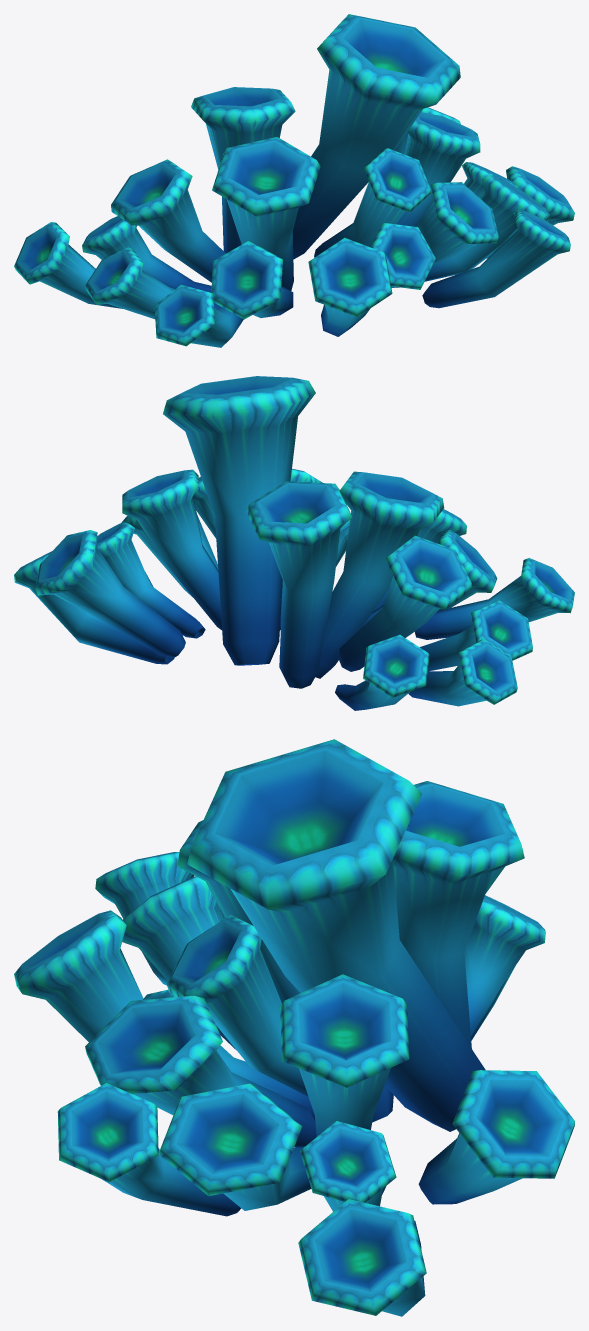
File: Coral_14d.FBX
3 renders of one model, top to bottom at view 1: azimuth 30°, elevation 25°; view 2: azimuth 150°, elevation 25°; view 3: azimuth 270°, elevation 25°, orthographic. The views are drawn at different scales.
Parts seen in each view (by area): view 1: Coral_14d; view 2: Coral_14d; view 3: Coral_14d.
Part boxes in pixels (left/top/right/bottom): Coral_14d: left=14, top=14, right=574, bottom=347; Coral_14d: left=14, top=376, right=574, bottom=710; Coral_14d: left=14, top=739, right=574, bottom=1316.
Size of the model in its own units: 93.99 by 48 by 55.28.
